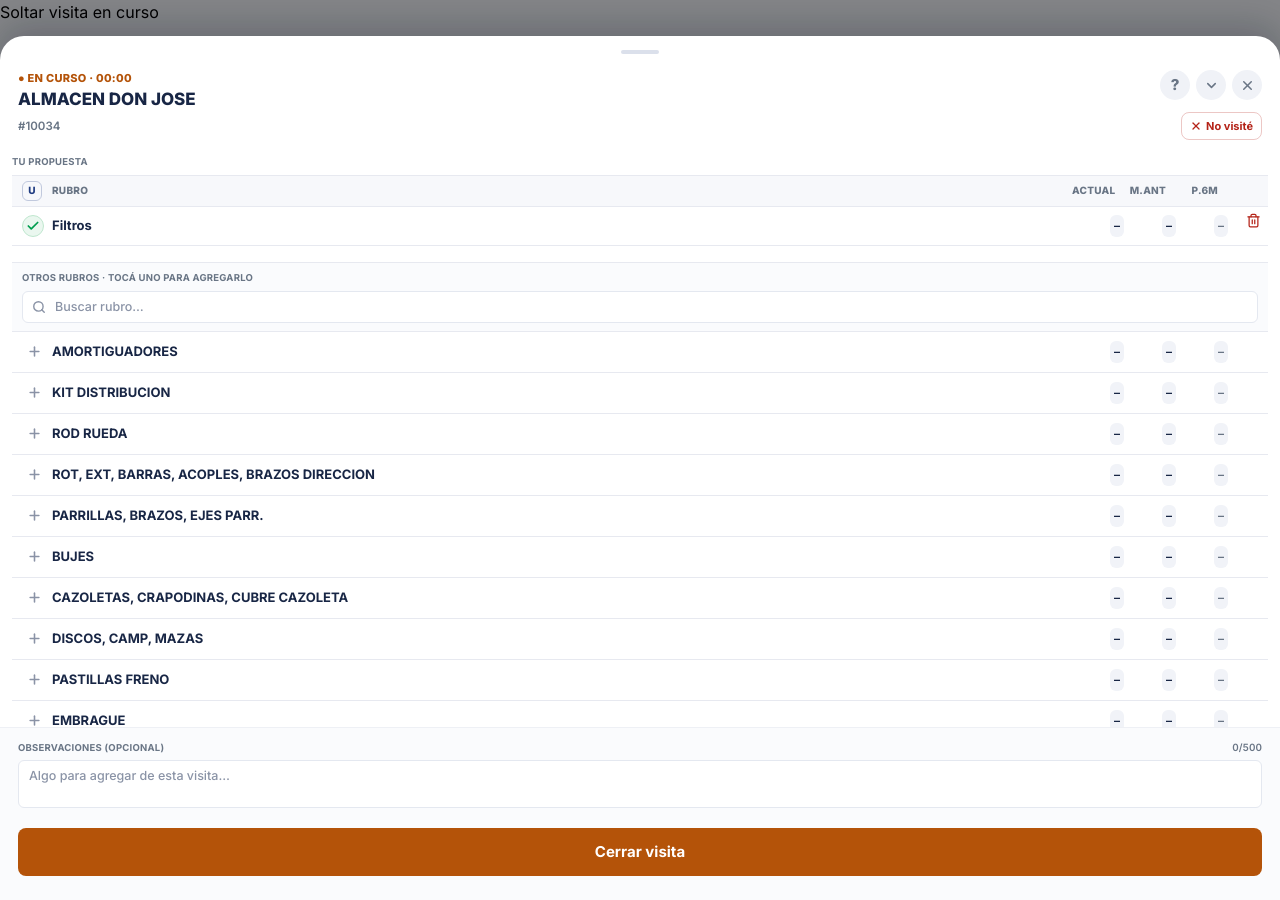
Test: No visité con la visita ya abierta › avisa que los rubros cargados no van a contar
expect the text "Filtros" is shown: met, box 52,217 -> 92,233
Click the button "No visité".
click(1222, 126)  # box 1181,112 -> 1262,140
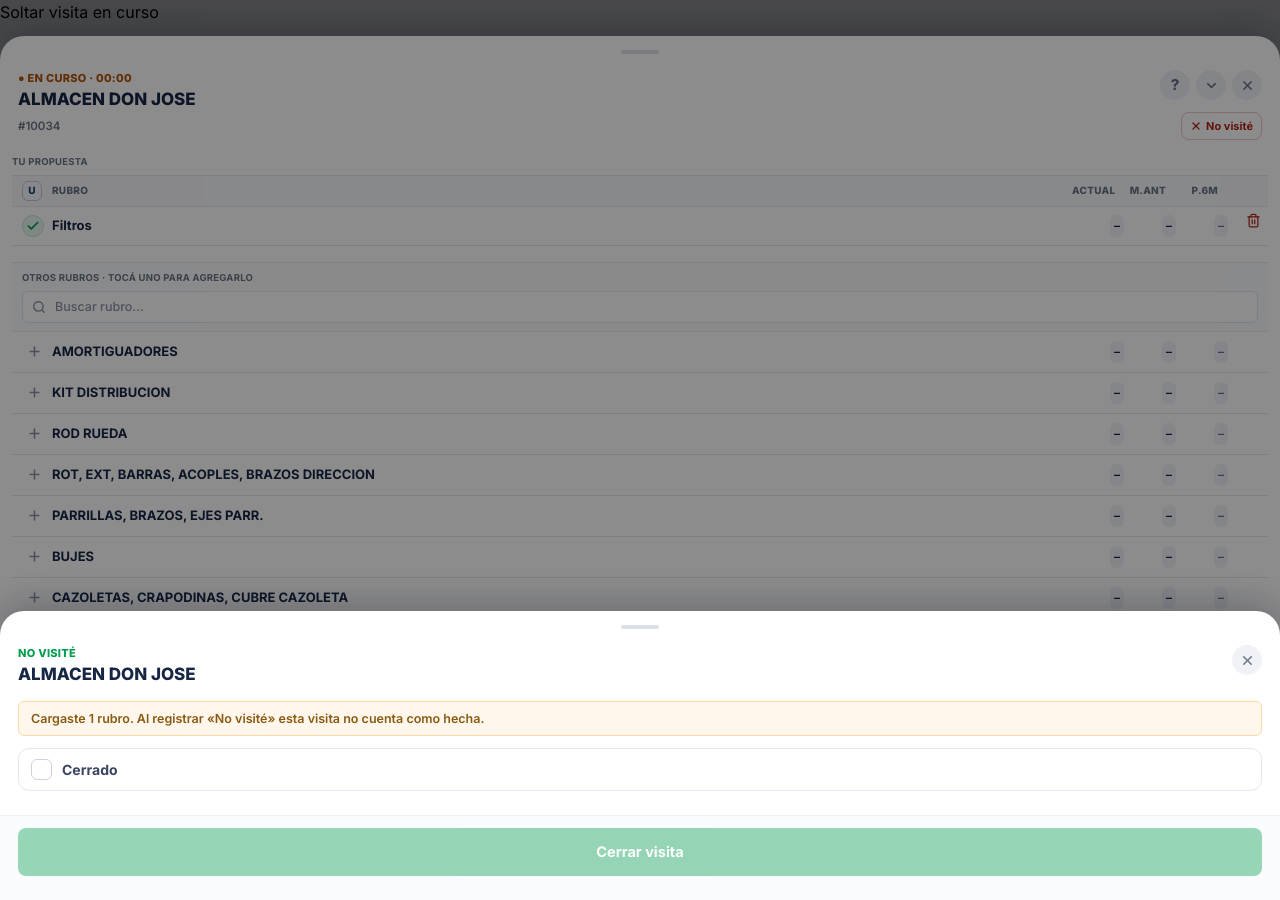
expect the text "Cargaste 1 rubro" is shown: met, box 31,711 -> 484,726
